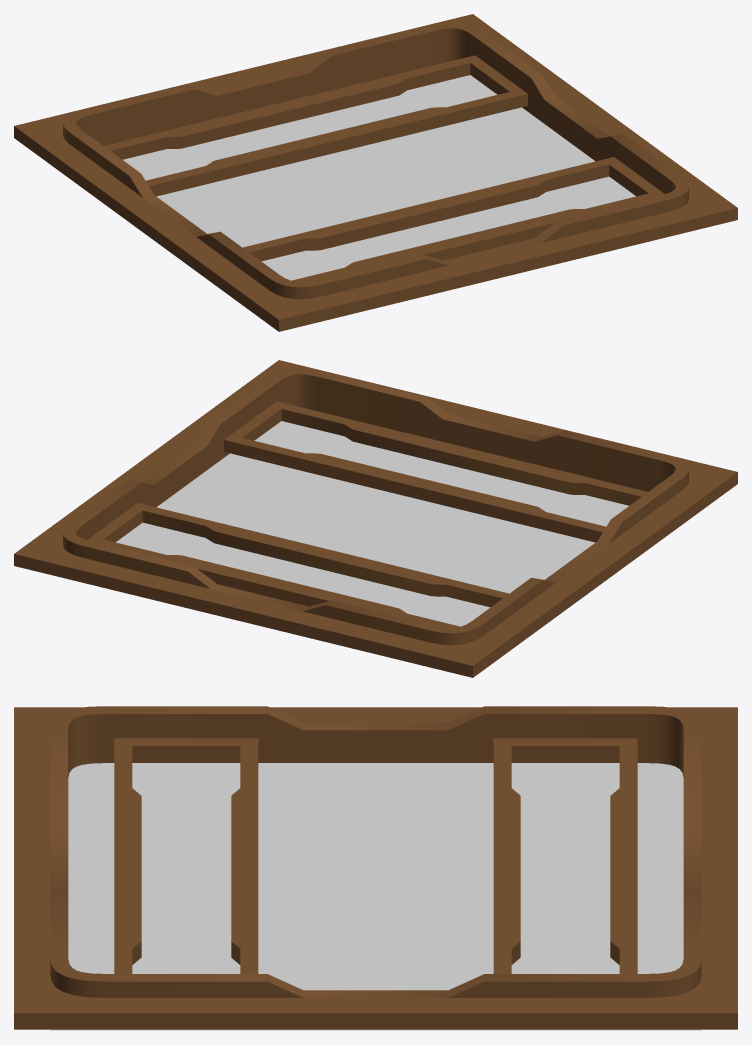
File: Ceiling_B_4x4m.FBX
3 views of the same model, one above another, from view 1: azimuth 30°, elevation 25°; view 2: azimuth 150°, elevation 25°; view 3: azimuth 270°, elevation 25° (orthographic). The views are drawn at different scales.
Parts seen in each view (by area): view 1: Ceiling_B_4x4m; view 2: Ceiling_B_4x4m; view 3: Ceiling_B_4x4m.
Boxes of the visible parts, left/top/right/bottom form: Ceiling_B_4x4m: left=14, top=14, right=737, bottom=331; Ceiling_B_4x4m: left=14, top=360, right=737, bottom=677; Ceiling_B_4x4m: left=14, top=706, right=737, bottom=1030.
Bounding box in the file's own units: 400 × 30 × 400.
